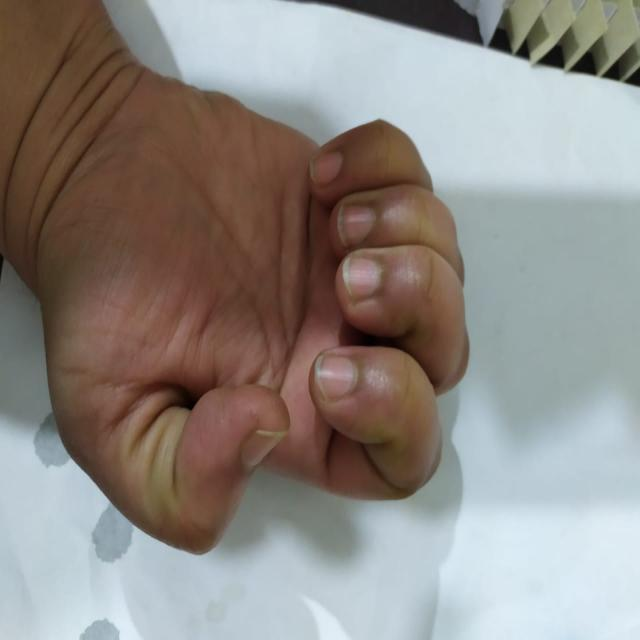Nail: (315, 352, 359, 401), (341, 253, 381, 301), (241, 428, 288, 468), (338, 202, 376, 248), (310, 150, 344, 187)
